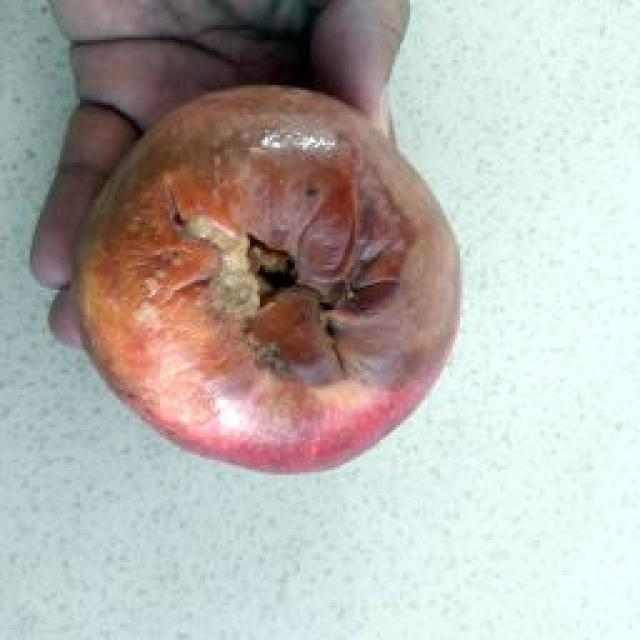Bad_Apple: (75, 88, 459, 471)
